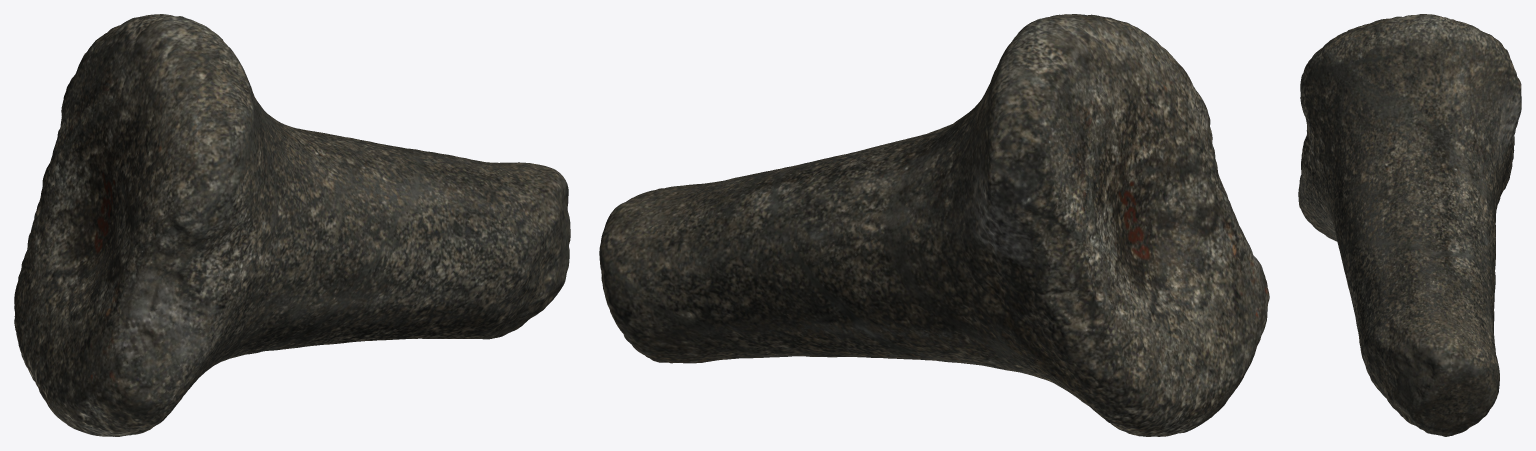
3 renders of one model, left to right at view 1: azimuth 30°, elevation 25°; view 2: azimuth 150°, elevation 25°; view 3: azimuth 270°, elevation 25°, orthographic. The views are drawn at different scales.
Parts seen in each view (by area): view 1: Node; view 2: Node; view 3: Node.
Boxes of the visible parts, x1,y1,x2,y2 form: Node: (14,14,570,436); Node: (599,14,1269,436); Node: (1298,14,1521,436).
Bounding box in the file's own units: 152 × 103 × 71.29.
1 material, 1 textured.
